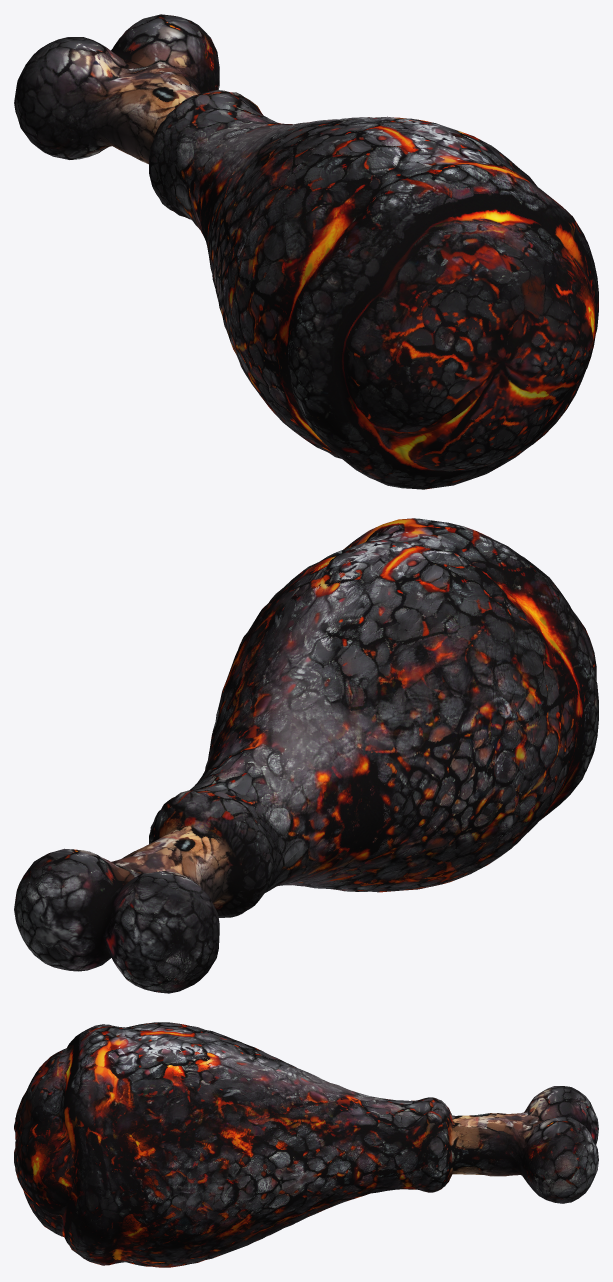
Rendered from Burned_chicken.fbx.
The picture shows the model from 3 angles, top to bottom: view 1: azimuth 30°, elevation 25°; view 2: azimuth 150°, elevation 25°; view 3: azimuth 270°, elevation 25°; orthographic projection. The views are drawn at different scales.
Visible parts, largest first — view 1: Mesh_0.001; view 2: Mesh_0.001; view 3: Mesh_0.001.
Boxes of the visible parts, x1,y1,x2,y2 form: Mesh_0.001: (14,14,598,489); Mesh_0.001: (14,518,598,993); Mesh_0.001: (14,1022,598,1267).
Size of the model in its own units: 16.05 by 16.05 by 38.12.
1 material, 1 textured.
